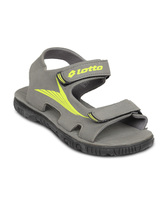shoes: (6, 45, 154, 158)
